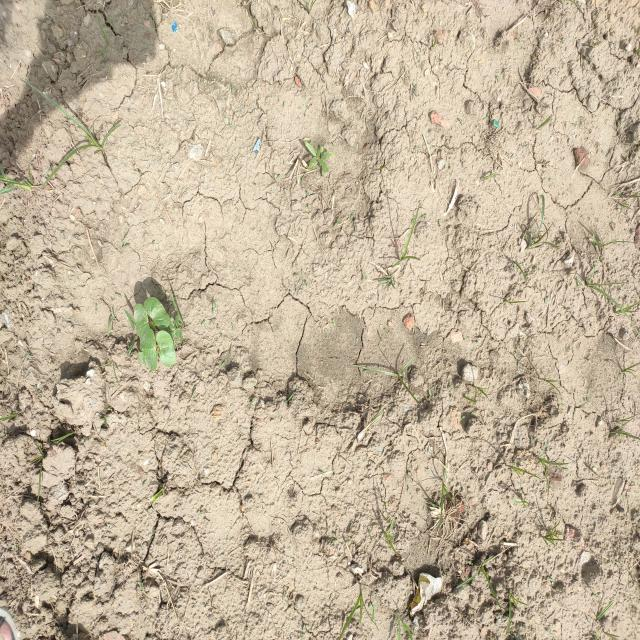seedling: (144, 297, 170, 328), (140, 328, 157, 370), (156, 331, 175, 367), (133, 304, 150, 343), (166, 316, 179, 331), (169, 328, 182, 343)
